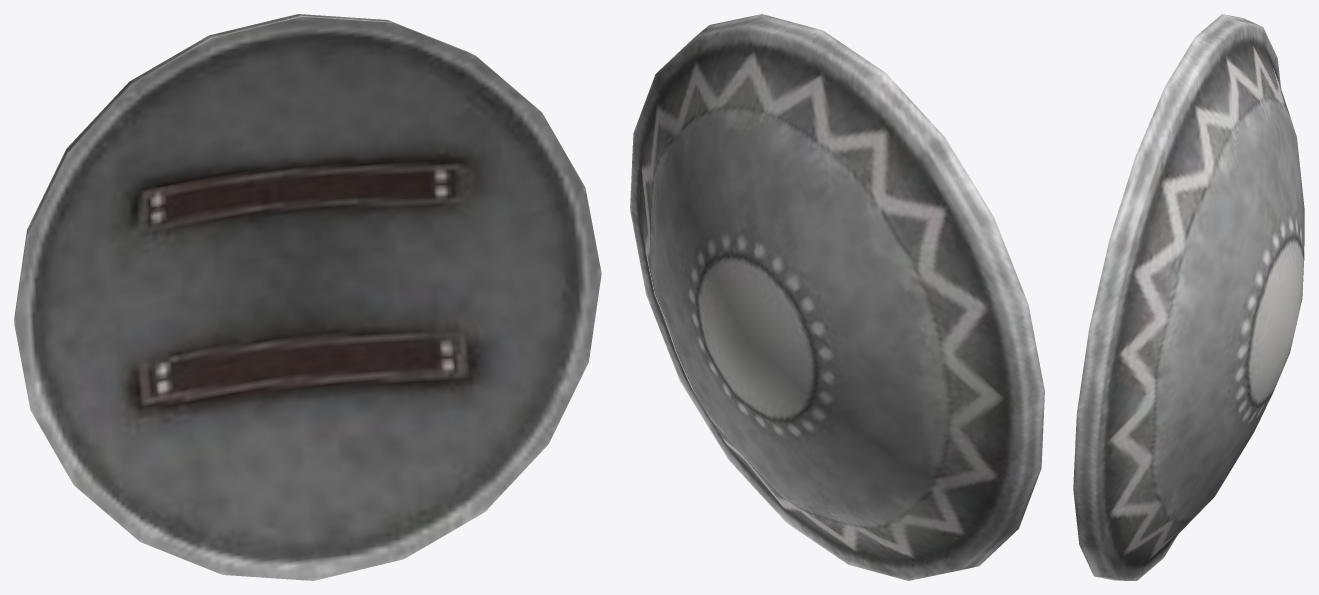
Rendered from shield-bronzeshields.glb.
3 views of the same model, side by side, from view 1: azimuth 30°, elevation 25°; view 2: azimuth 150°, elevation 25°; view 3: azimuth 270°, elevation 25° (orthographic). The views are drawn at different scales.
Size of the model in its own units: 0.6612 by 0.6908 by 0.2748.
Materials: 1 (1 with a texture image).
